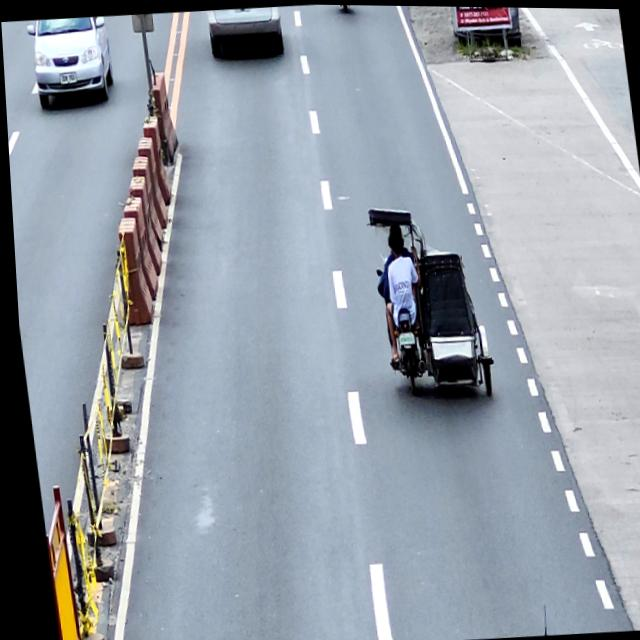Car: (25, 15, 116, 113), (205, 4, 285, 58)
License-Plate: (393, 330, 411, 345), (57, 71, 76, 84)
Tricycle: (364, 200, 493, 402)
